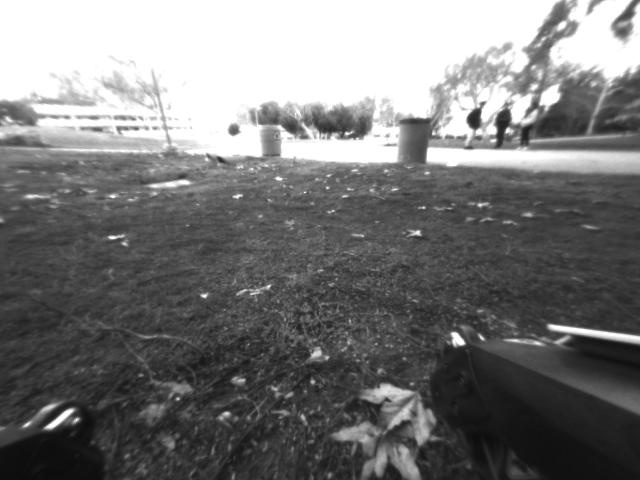trashcan: (396, 116, 434, 171), (256, 124, 283, 163)
